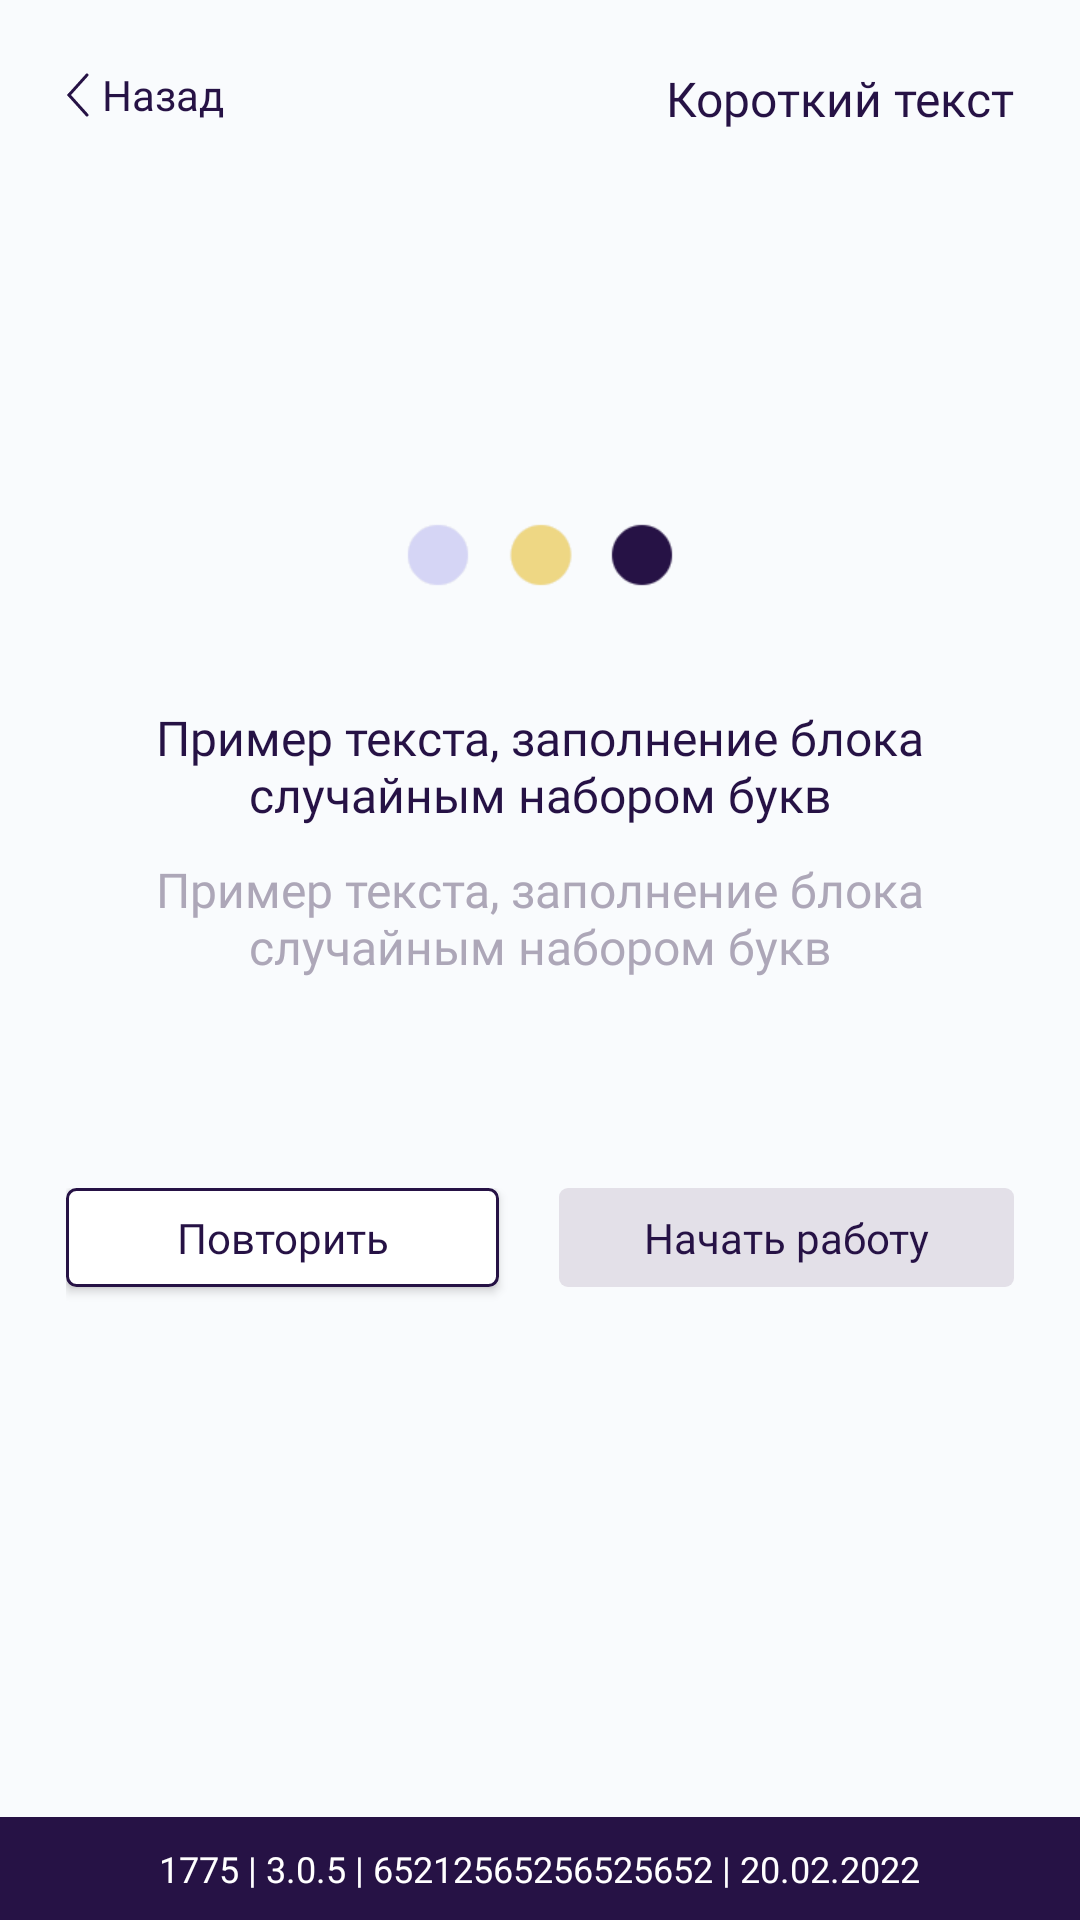

Icon click points for this 1080w x 1920h phone screenshot, format point (x, y):
arrow: point (78, 95)
loading gif: point (540, 555)
